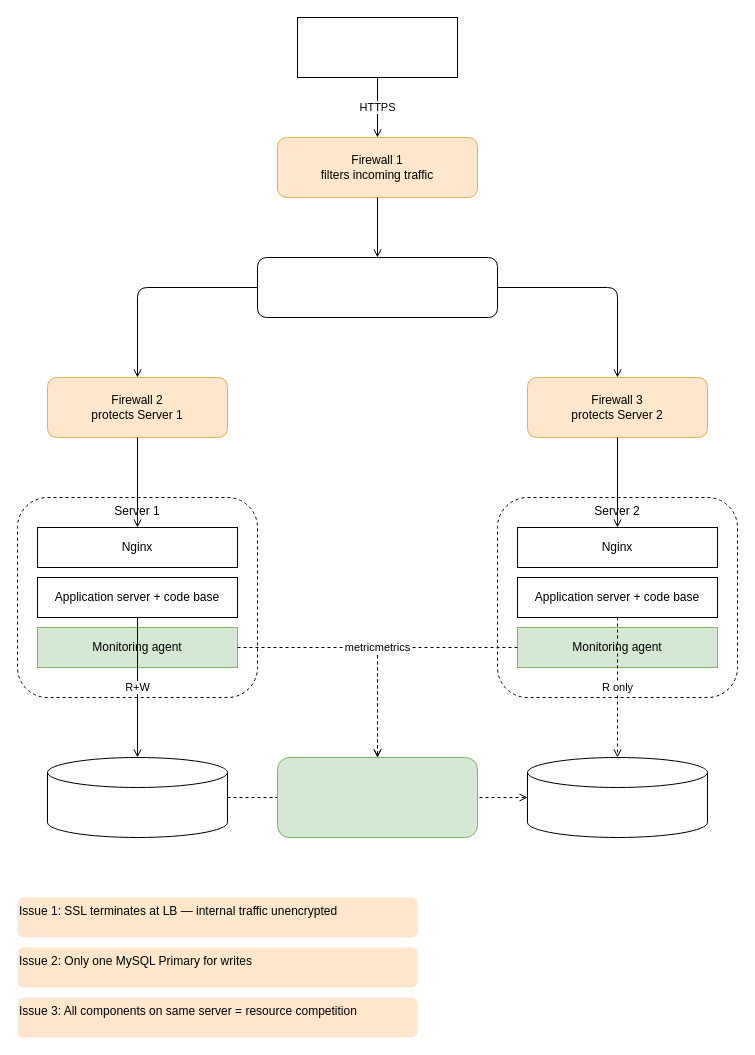
Some shapes in this 755 by 1055 pixel diagram are drawn without their labels. The centre of each missing label's shape, as x and y in pixels:
Load Balancer (HAProxy) SSL certificate: point 377,287
MySQL Primary reads + writes + Monitoring agent: point 137,797
MySQL Replica reads only + Monitoring agent: point 617,797
Sumo Logic / Datadog centralized monitoring: point 377,797
User (HTTPS only): point 377,47
